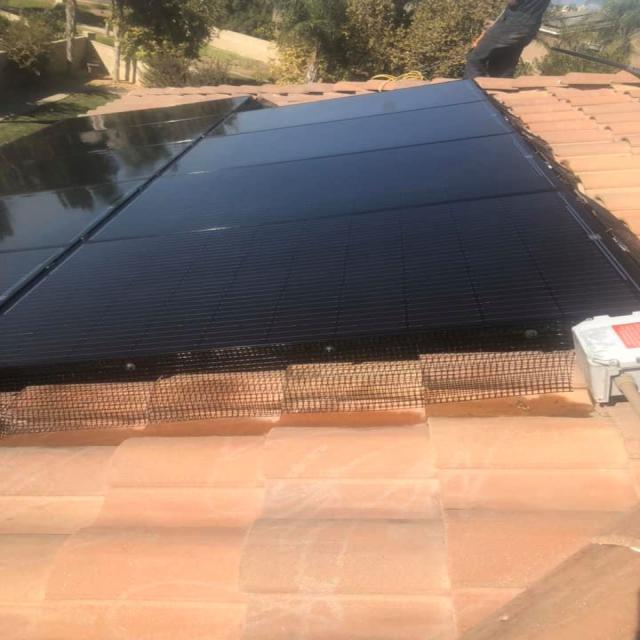clean-solar-panel: (3, 80, 638, 432)
